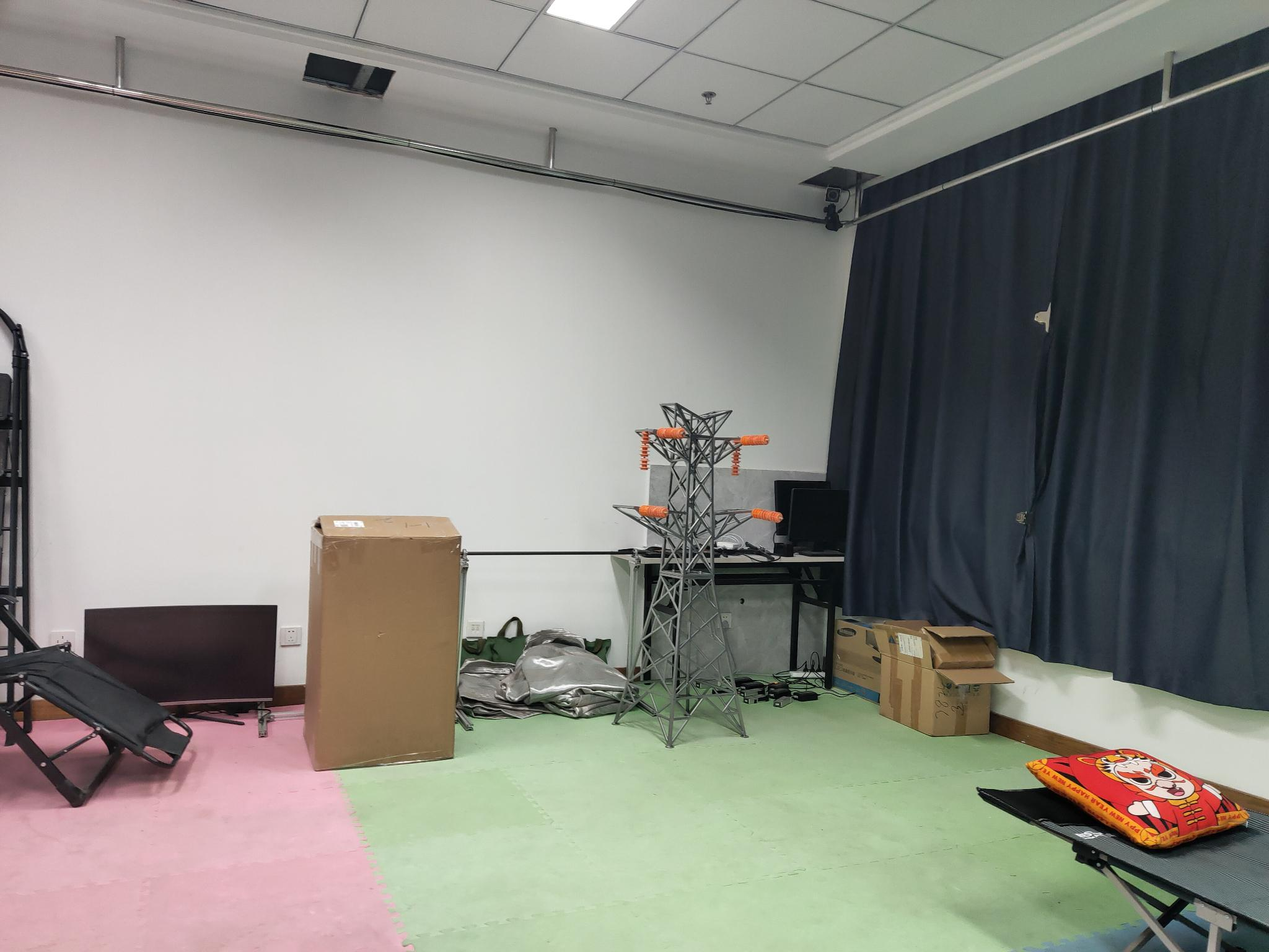tower: (611, 401, 746, 744)
